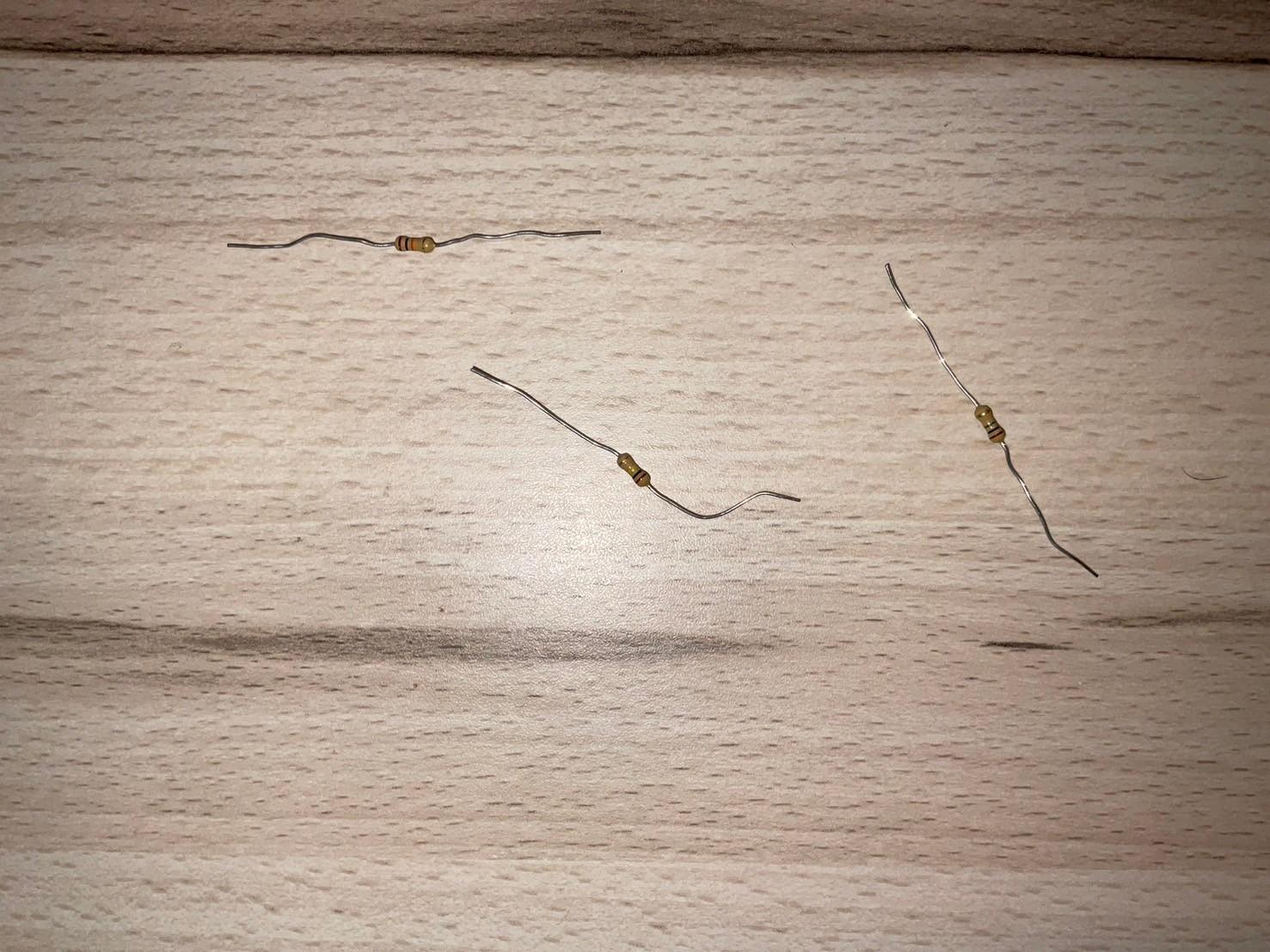resistor: (974, 404, 1008, 445), (617, 451, 653, 488), (394, 234, 437, 252)
